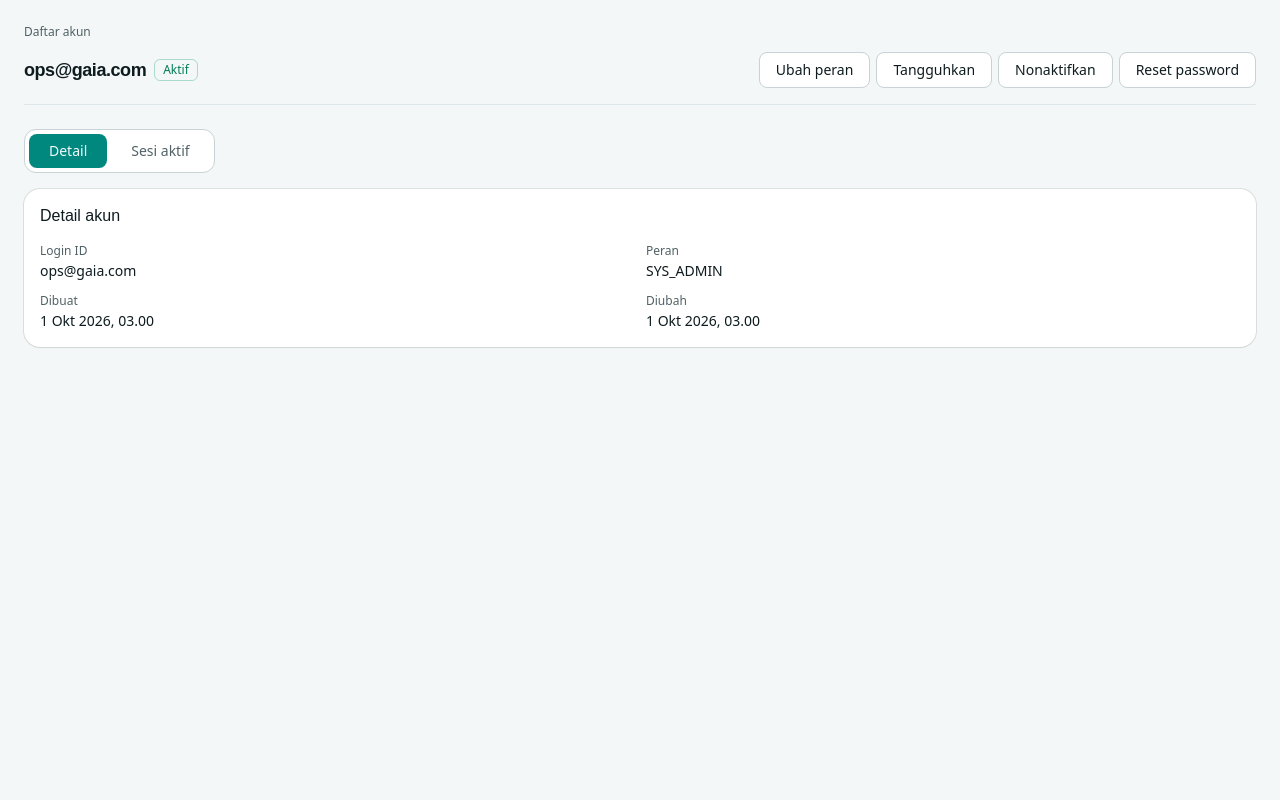
Test case: confirm dialogs on the detail page › cancelling Tangguhkan sends nothing
The image size is (1280, 800).
Expected: the heading "ops@gaia.com" is shown, [24, 56, 146, 84]
Click the button "Tangguhkan" at [934, 70], box [876, 52, 992, 88]
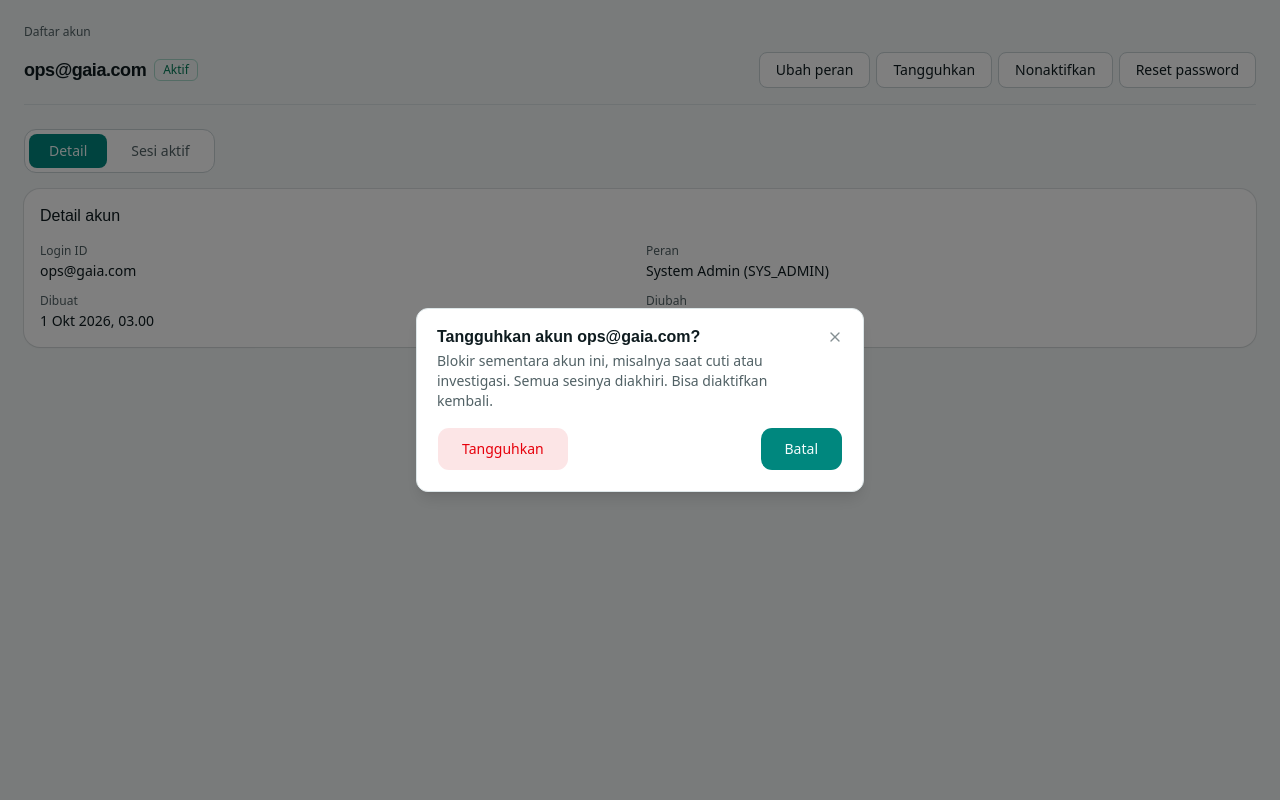
Click the button "Batal" at [801, 449], box [760, 427, 843, 471]
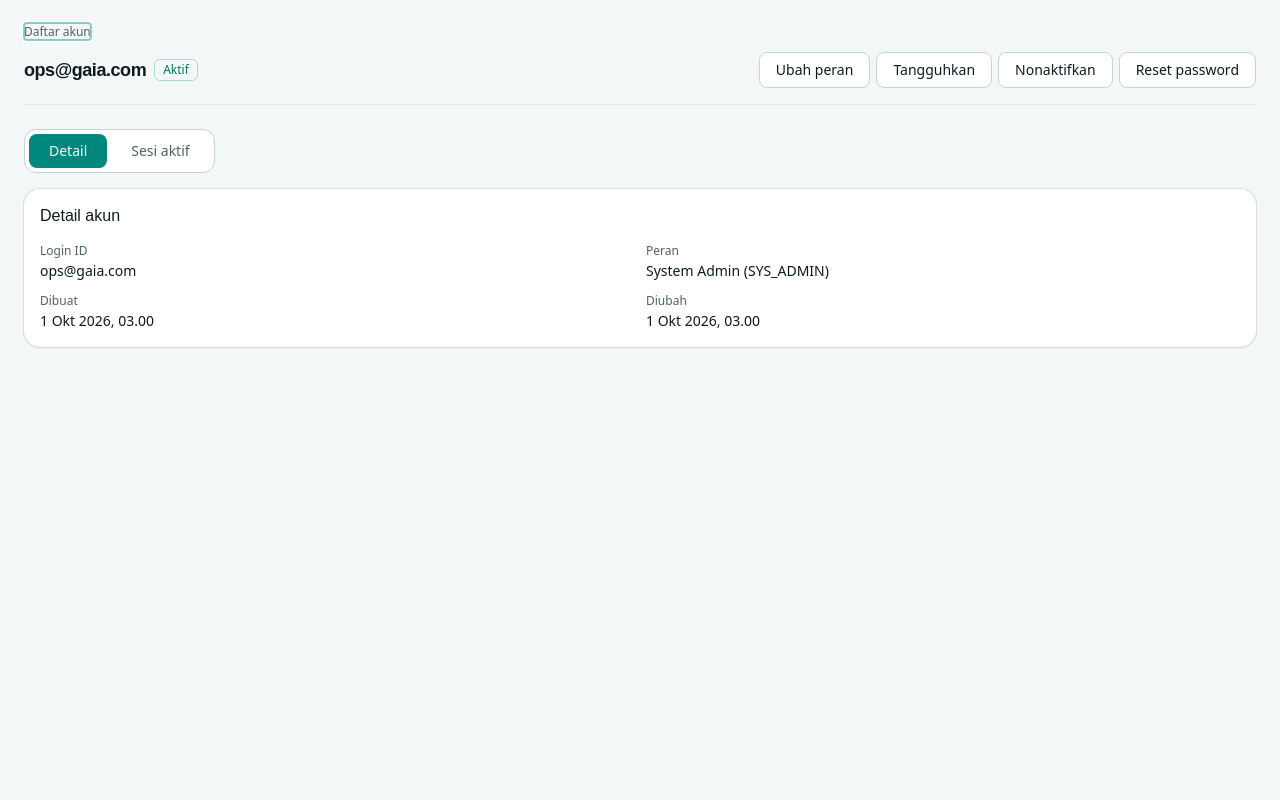
Result: the dialog is gone
